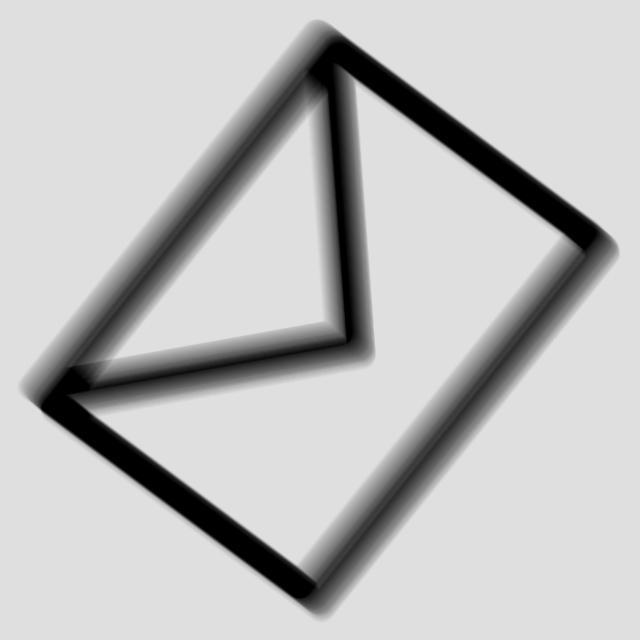letter: (8, 16, 630, 633)
